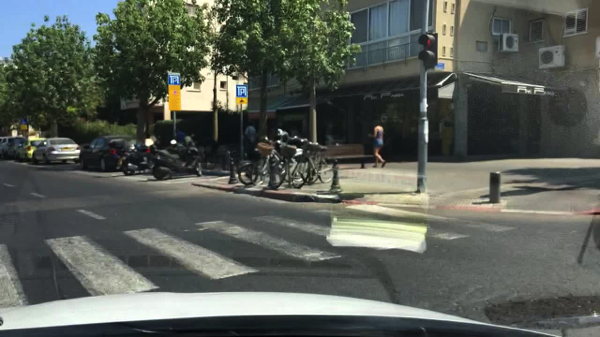bike: (271, 136, 344, 190), (265, 135, 331, 189), (237, 126, 289, 188)
car: (76, 134, 139, 173), (31, 137, 83, 167), (13, 137, 47, 164), (1, 135, 28, 161), (1, 136, 15, 159)
motor: (147, 138, 206, 182), (107, 138, 162, 176)
person: (366, 118, 389, 169), (244, 119, 259, 156), (184, 132, 198, 151), (174, 125, 187, 145)
traffic light: (416, 32, 440, 69)
traffic sign: (166, 70, 183, 112), (235, 84, 247, 104), (20, 117, 29, 131)
